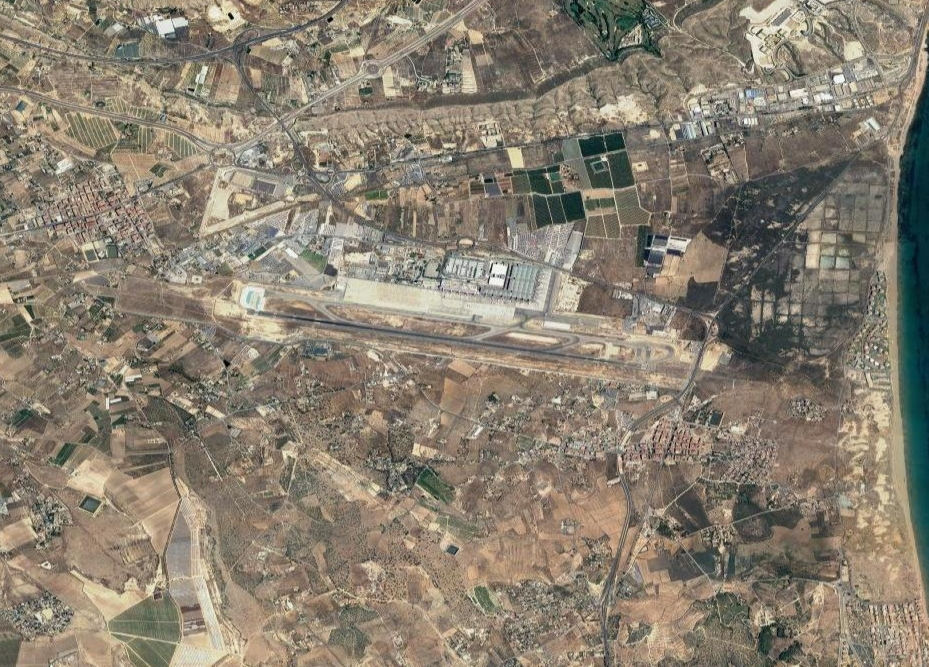airport: (238, 260, 677, 371)
industrial: (697, 65, 868, 127)
motorway: (613, 394, 682, 449), (267, 1, 345, 44), (235, 63, 282, 119), (275, 121, 322, 177), (314, 175, 364, 221), (131, 45, 200, 74), (66, 43, 132, 71), (201, 37, 267, 65), (1, 31, 66, 59), (608, 505, 639, 561), (611, 447, 642, 503), (173, 125, 225, 158), (379, 29, 431, 62), (330, 58, 382, 91), (281, 87, 333, 120), (430, 1, 482, 33), (54, 97, 110, 125), (113, 108, 168, 136), (1, 77, 55, 105), (595, 560, 619, 614), (593, 612, 614, 667)
